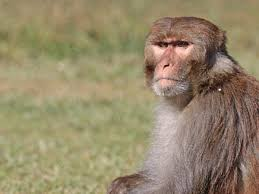monkey: (117, 13, 246, 173)
